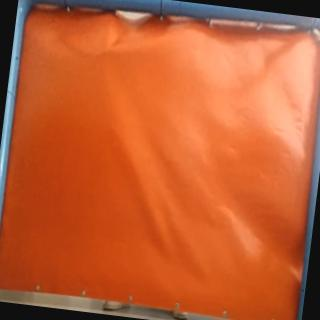Hit-hRxx: (99, 41, 113, 58)
